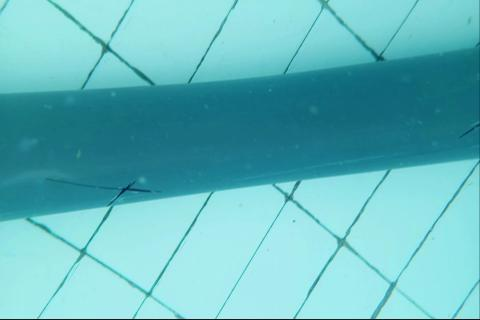keretakan: (44, 174, 160, 207), (458, 121, 480, 142)
